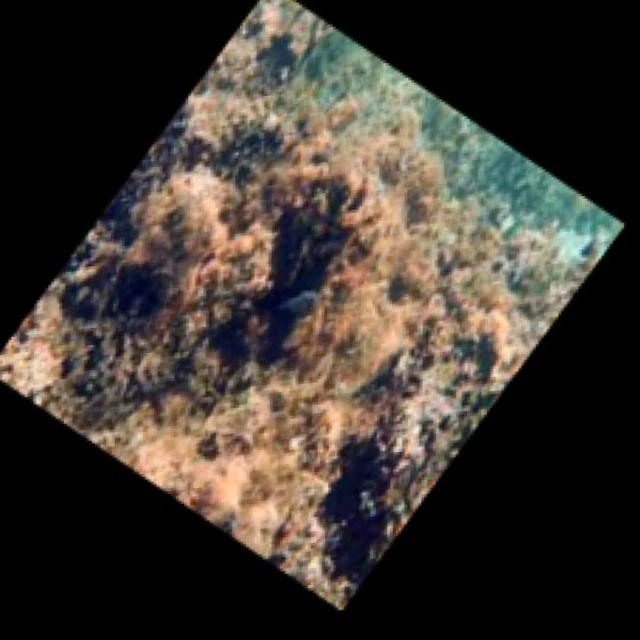Dead Coral: (251, 69, 445, 482), (126, 164, 300, 363)
